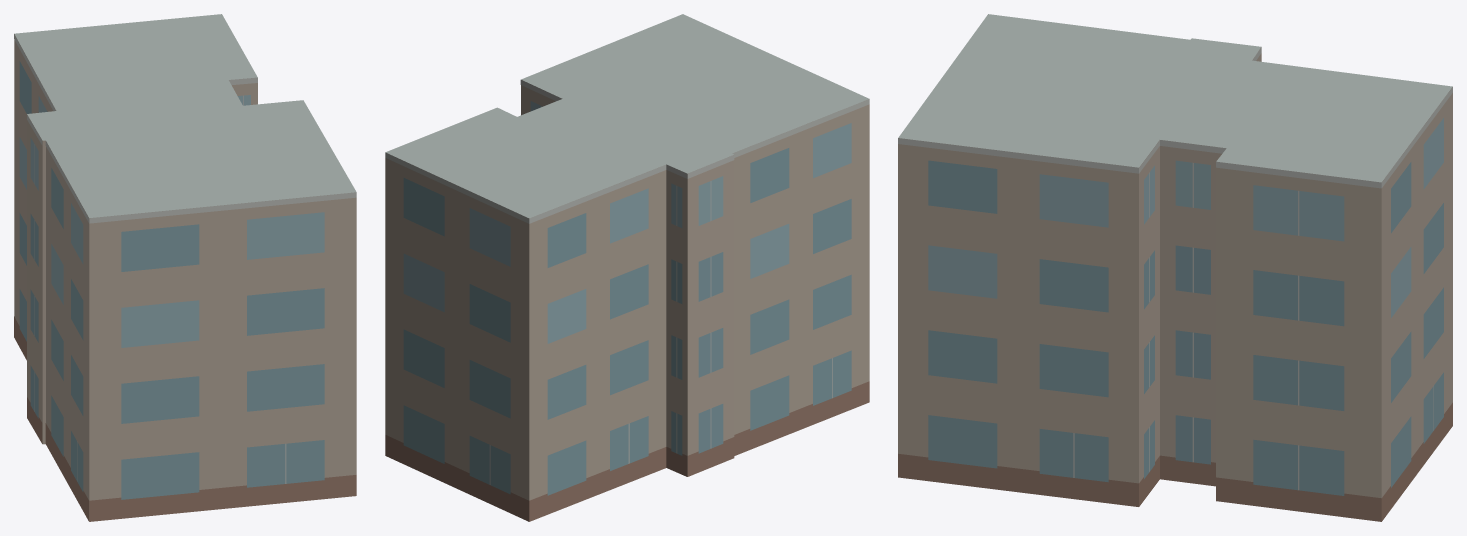
File: survey-upis-32948200.glb
3 renders of one model, left to right at view 1: azimuth 30°, elevation 25°; view 2: azimuth 150°, elevation 25°; view 3: azimuth 270°, elevation 25°, orthographic. The views are drawn at different scales.
Parts seen in each view (by area): view 1: survey-upis-32948200.tmp; view 2: survey-upis-32948200.tmp; view 3: survey-upis-32948200.tmp.
Boxes of the visible parts, x1=… form: survey-upis-32948200.tmp: x1=14, y1=14, x2=356, y2=521; survey-upis-32948200.tmp: x1=385, y1=14, x2=869, y2=521; survey-upis-32948200.tmp: x1=898, y1=14, x2=1452, y2=521.
Bounding box in the file's own units: 14.59 × 13.7 × 20.3.
